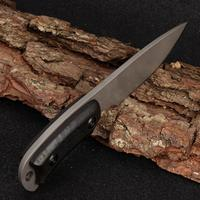knife: (12, 16, 190, 192)
